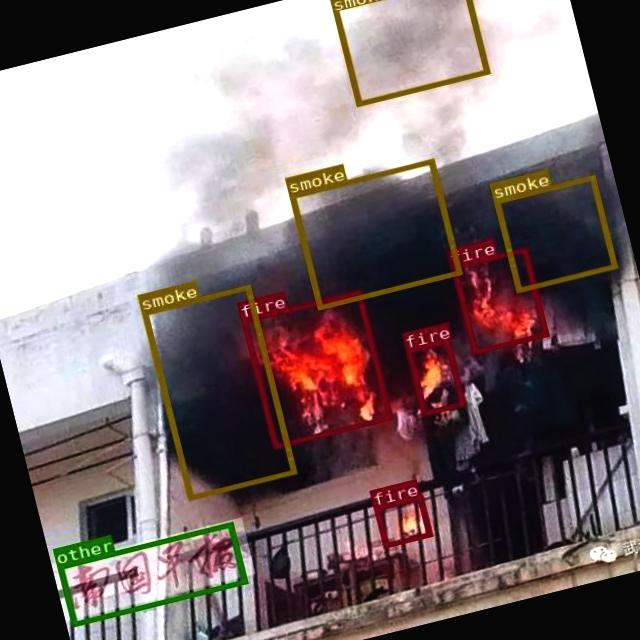fire: (240, 288, 391, 448), (450, 246, 548, 354), (404, 338, 464, 416), (373, 494, 431, 547)
smoke: (140, 284, 296, 499), (288, 158, 460, 310), (327, 0, 488, 105), (492, 175, 616, 292)
